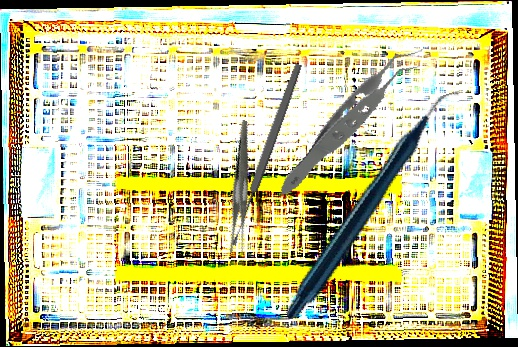Dressing Forceps: (194, 119, 290, 258)
Handpiece: (236, 89, 512, 321)
Surgical Spoon: (227, 62, 305, 247)
Tissue Forceps: (252, 45, 455, 198)
